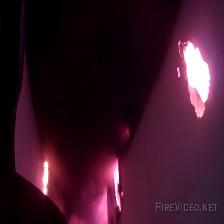fire: (31, 138, 135, 224)
nofire: (172, 39, 219, 122)
